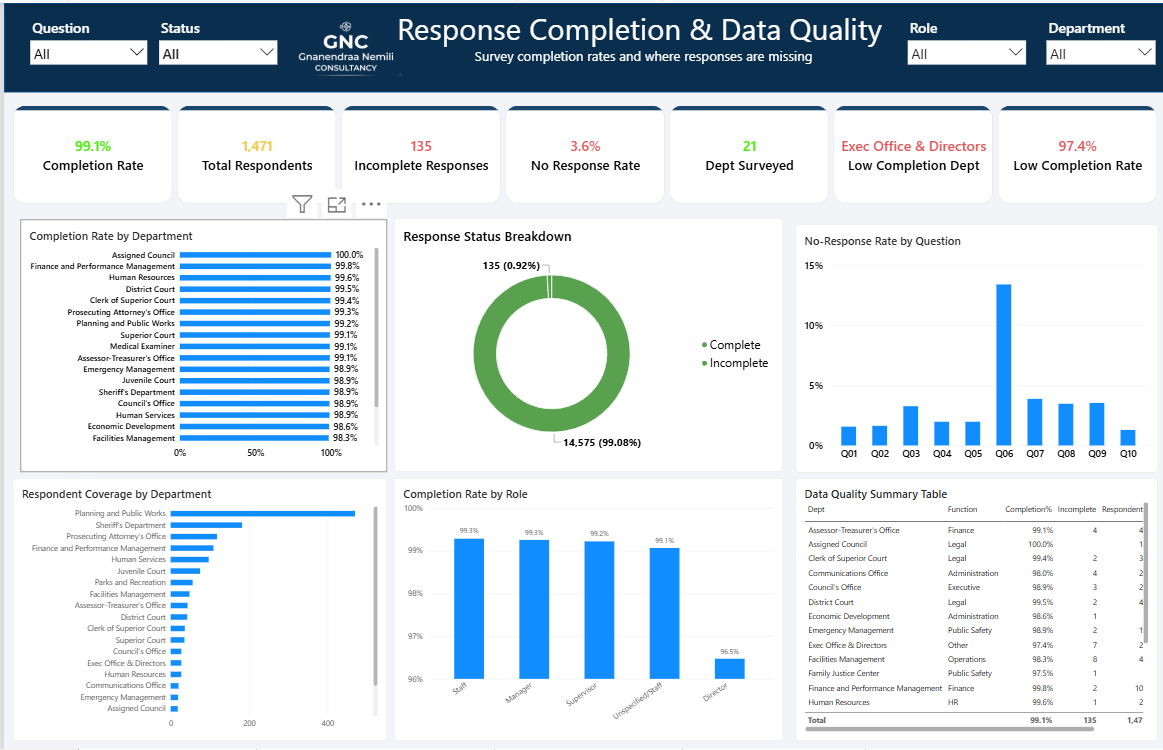

The page's visual inventory and layout, read from the dashboard file:
{"tool":"powerbi","page":{"name":"Response Completion & Data Quality","canvas":[2110,1350],"ordinal":4},"visuals":[{"type":"shape","box":[0,0,2109.6,161.7],"z":0},{"type":"slicer","fields":{"Values":["HR Survey Reponses.Role"]},"box":[1630,27.3,223.6,119.3],"z":1000},{"type":"slicer","fields":{"Values":["HR Survey Reponses.Department"]},"box":[1880.9,27.3,206.2,119.3],"z":2000},{"type":"slicer","fields":{"Values":["HR Survey Reponses.Question"]},"box":[42.2,27.3,221.1,119.3],"z":3000},{"type":"slicer","fields":{"Values":["HR Survey Reponses.Status"]},"box":[275.8,27.3,223.6,119.3],"z":4000},{"type":"textbox","box":[706.4,9.5,903.8,137.9],"z":5000},{"type":"cardVisual","fields":{"Data":["HR Survey Reponses.Completion Rate","HR Survey Reponses.Distinct Respondents","HR Survey Reponses.Incomplete Respondents","HR Survey Reponses.No Response Rate","HR Survey Reponses.Departments Surveyed","HR Survey Reponses.Lowest Completion Department","HR Survey Reponses.Lowest Completion Rate"]},"box":[16.6,185.5,2071.5,178.4],"z":6000},{"type":"image","box":[499.4,9.5,237.8,152.2],"z":7000},{"type":"donutChart","title":"Response Status Breakdown","fields":{"Category":["HR Survey Reponses.Status"],"Y":["HR Survey Reponses.Total Responses"]},"box":[706.4,390,704,459],"z":8000},{"type":"columnChart","title":"No-Response Rate by Question","fields":{"Category":["HR Survey Reponses.Question Label (Padded)"],"Y":["HR Survey Reponses.No Response Rate"]},"box":[1431.7,399.6,656.4,449.5],"z":9000},{"type":"barChart","title":"Completion Rate by Department","fields":{"Category":["HR Survey Reponses.Department"],"Y":["HR Survey Reponses.Completion Rate"]},"box":[28.5,392.4,665.9,456.6],"z":10000},{"type":"barChart","title":"Respondent Coverage by Department","fields":{"Category":["HR Survey Reponses.Department","HR Survey Reponses.Business Function"],"Y":["HR Survey Reponses.Distinct Respondents"]},"box":[16.6,858.6,677.8,475.7],"z":11000},{"type":"columnChart","title":"Completion Rate by Role","fields":{"Category":["HR Survey Reponses.Role"],"Y":["HR Survey Reponses.Completion Rate"]},"box":[706.4,858.6,704,475.7],"z":12000},{"type":"tableEx","title":" Data Quality Summary Table","fields":{"Values":["HR Survey Reponses.Department","HR Survey Reponses.Business Function","HR Survey Reponses.Completion Rate","HR Survey Reponses.Incomplete Respondents","HR Survey Reponses.Distinct Respondents","HR Survey Reponses.No Response Count"]},"box":[1432,859,656,476],"z":12001}]}

Visuals, with their boxes in screenshot pixels (x1, y1, x2, y2), scaled from the page's 2110x1350 canvas onto the 1163x750 screenshot:
shape: box=[0, 0, 1162, 90]
slicer - HR Survey Reponses.Role: box=[898, 15, 1022, 81]
slicer - HR Survey Reponses.Department: box=[1037, 15, 1150, 81]
slicer - HR Survey Reponses.Question: box=[23, 15, 145, 81]
slicer - HR Survey Reponses.Status: box=[152, 15, 275, 81]
textbox: box=[389, 5, 888, 82]
cardVisual - HR Survey Reponses.Completion Rate x HR Survey Reponses.Distinct Respondents: box=[9, 103, 1151, 202]
image: box=[275, 5, 406, 90]
"Response Status Breakdown" donutChart: box=[389, 217, 777, 472]
"No-Response Rate by Question" columnChart: box=[789, 222, 1151, 472]
"Completion Rate by Department" barChart: box=[16, 218, 383, 472]
"Respondent Coverage by Department" barChart: box=[9, 477, 383, 741]
"Completion Rate by Role" columnChart: box=[389, 477, 777, 741]
" Data Quality Summary Table" tableEx: box=[789, 477, 1151, 742]
